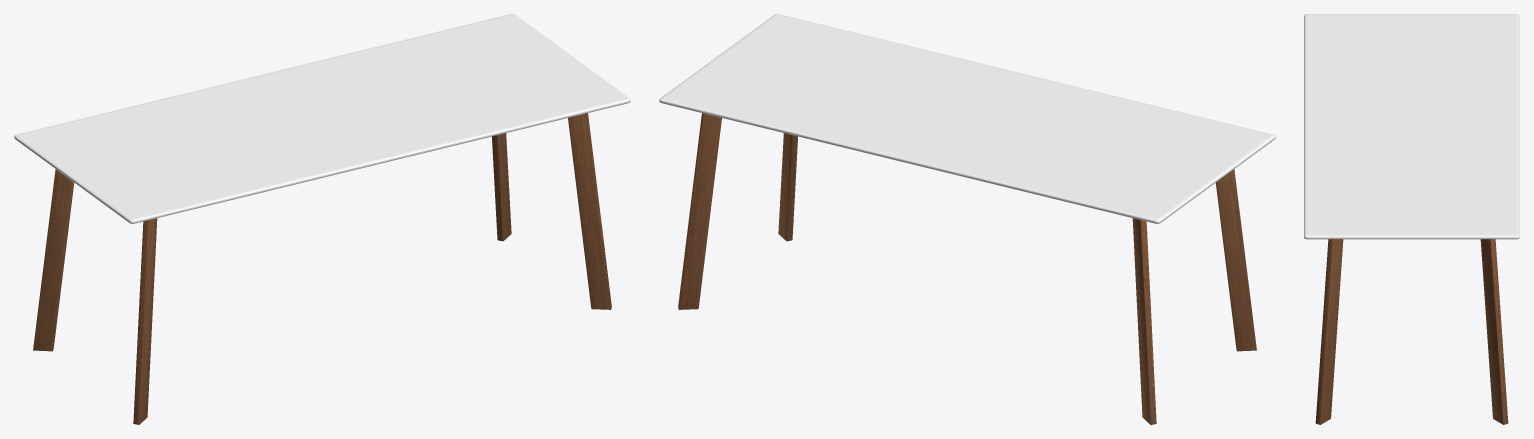
File: table.fbx
3 renders of one model, left to right at view 1: azimuth 30°, elevation 25°; view 2: azimuth 150°, elevation 25°; view 3: azimuth 270°, elevation 25°, orthographic. The views are drawn at different scales.
Visible parts, largest first — view 1: table; view 2: table; view 3: table.
Boxes of the visible parts, bbox=[...] form: table: bbox=[14, 14, 630, 424]; table: bbox=[659, 14, 1275, 424]; table: bbox=[1304, 14, 1519, 424].
Bounding box in the file's own units: 180 × 73.54 × 72.77.
1 material, 1 textured.
